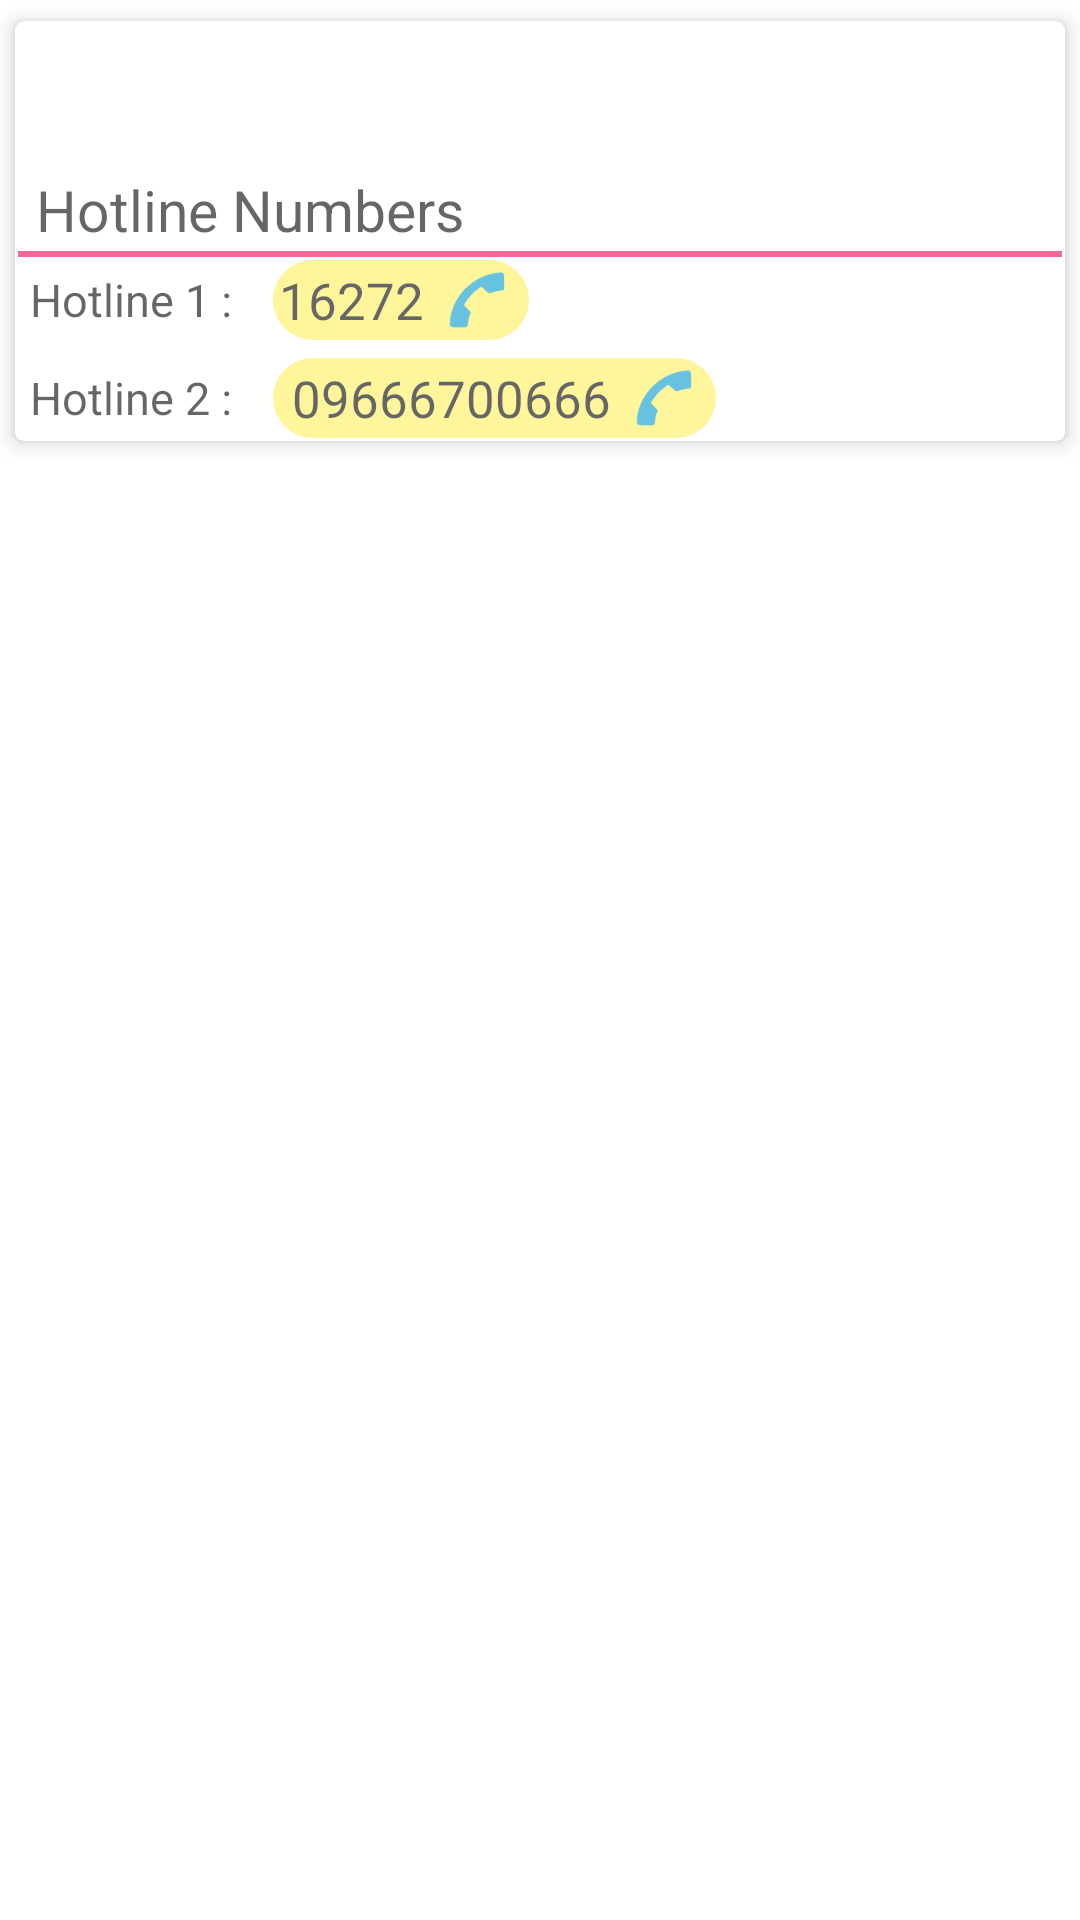

Screen size 1080px x 1920px. Icon name, then its center in pixels as (x,y):
phoneicon: (476,299), (663,397)
